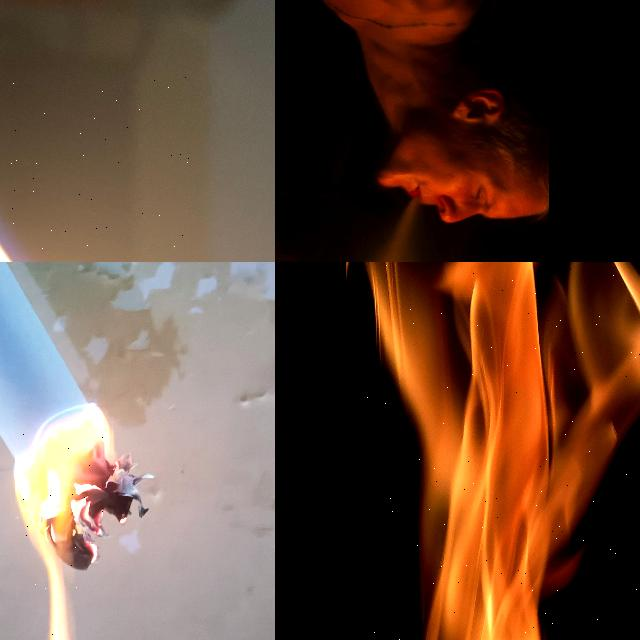fire: (363, 262, 640, 640), (16, 405, 111, 640)
